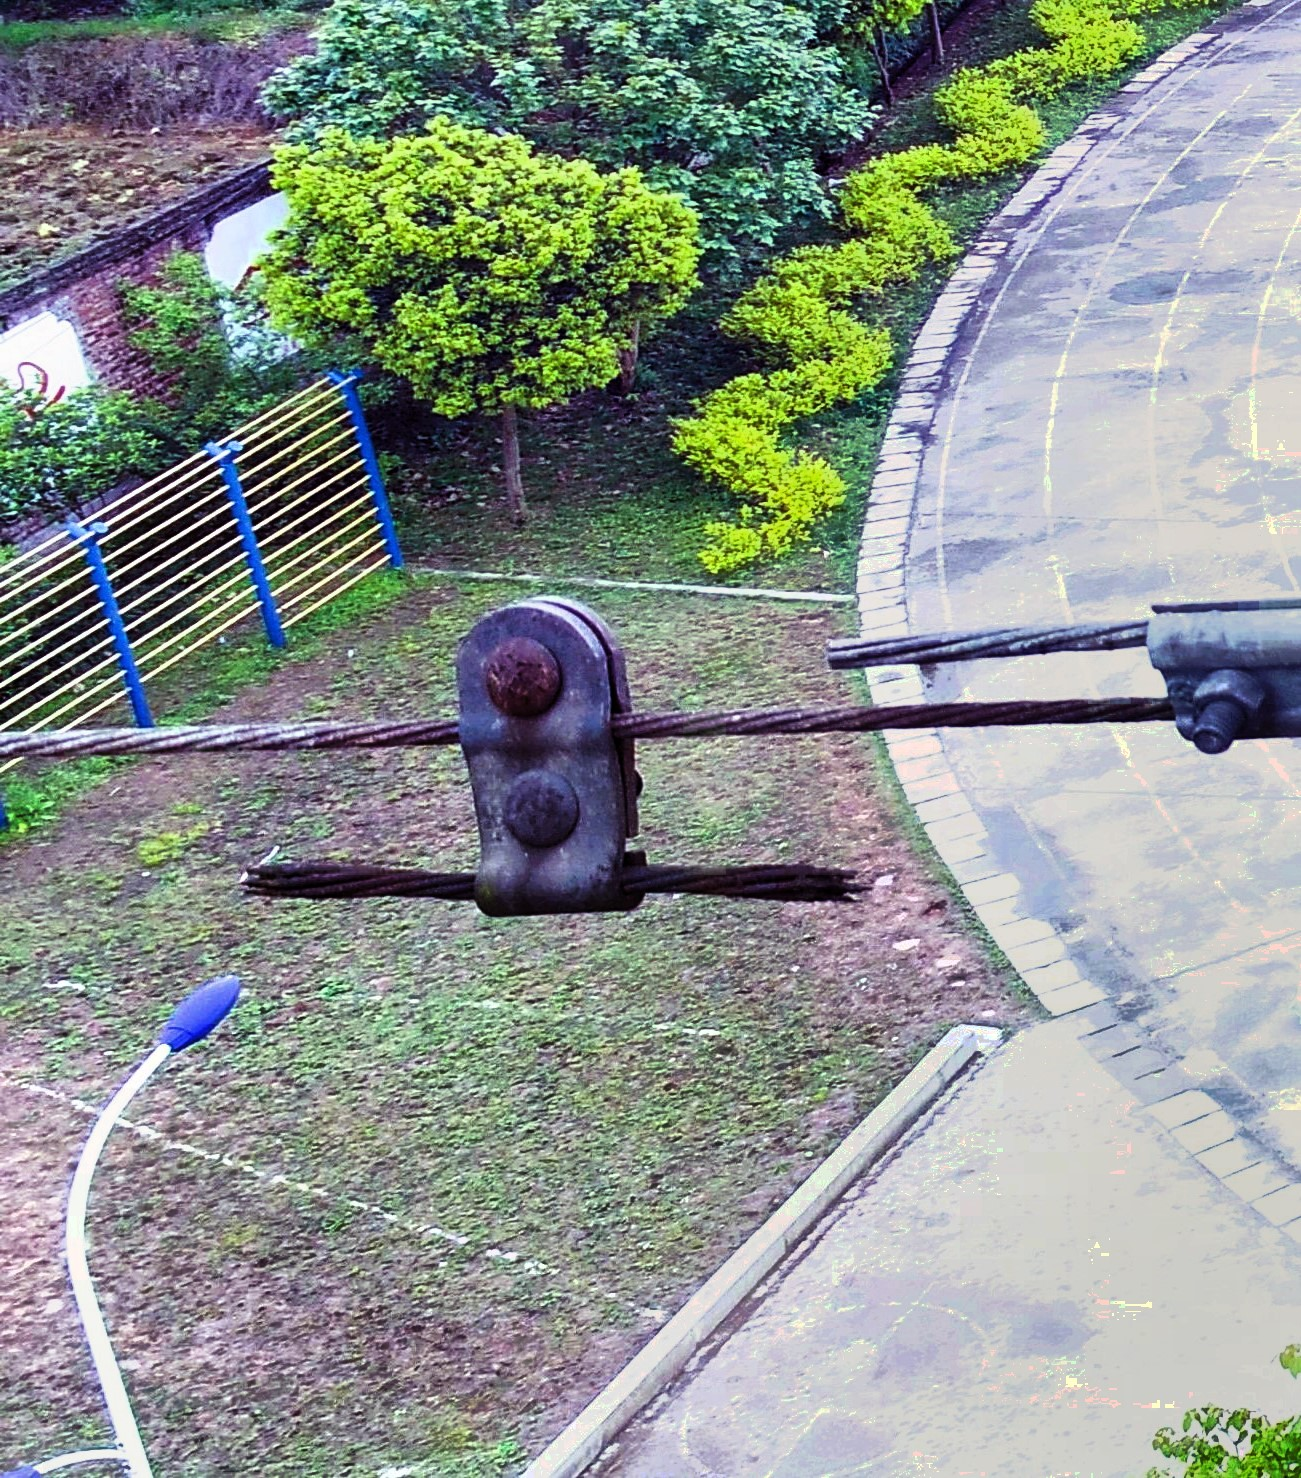Damage of shockproof hammer: (199, 571, 895, 951)
